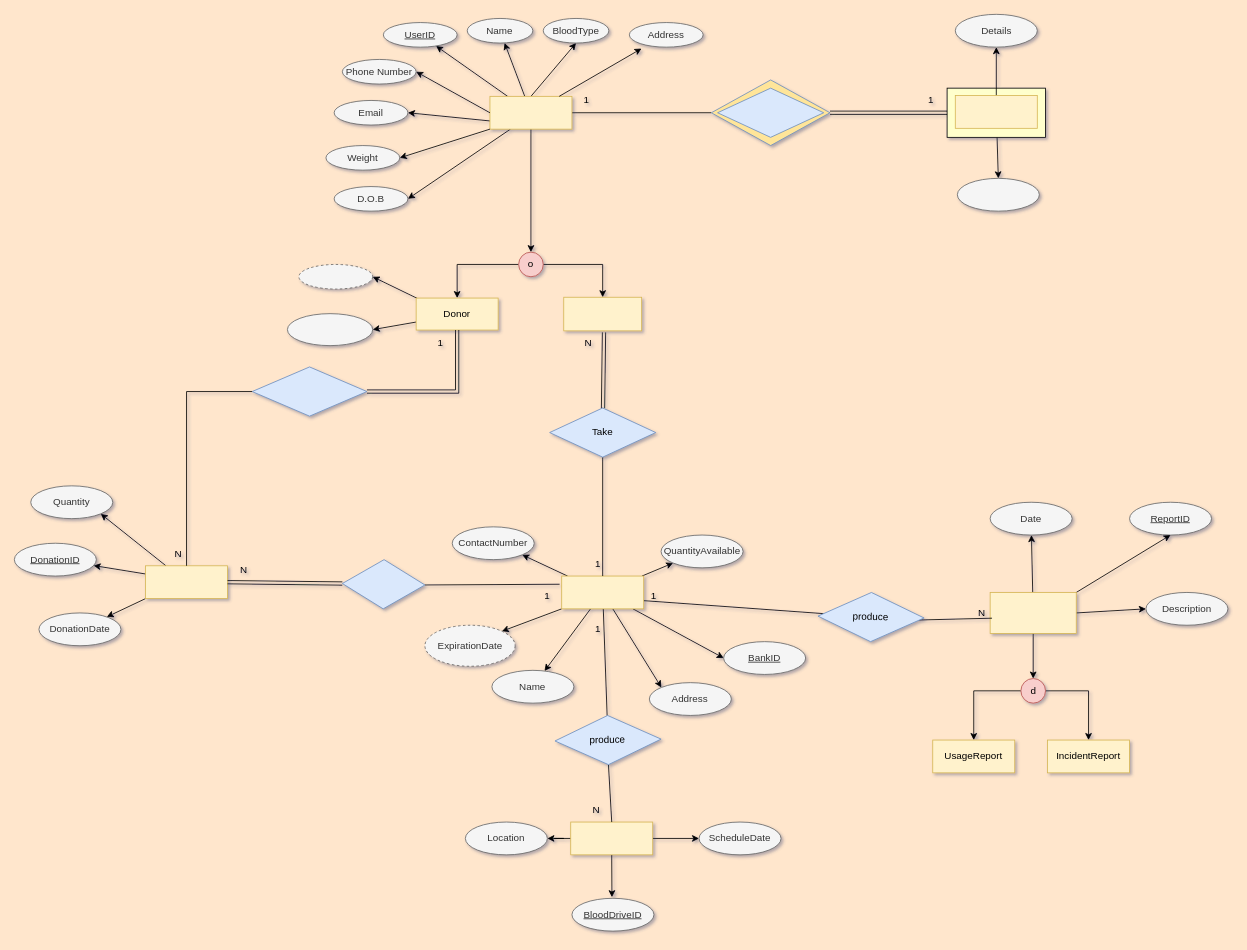
The diagram is 1247 pixels wide and 950 high, and some of its shapes have lost their labels. Here are the shapes that lost their labels. From the top down, the centre of each, then its label:
At [530,112]: "User".
At [770,112]: "Have".
At [995,111]: "MedicalHistory".
At [998,194]: "DiseasesFree".
At [335,276]: "Age".
At [330,329]: "DonatingHistory".
At [602,313]: "Recipient".
At [309,391]: "Give".
At [186,582]: "Donation".
At [383,584]: "Store".
At [602,592]: "BloodBank".
At [1032,612]: "Report".
At [611,838]: "BloodDrive".
